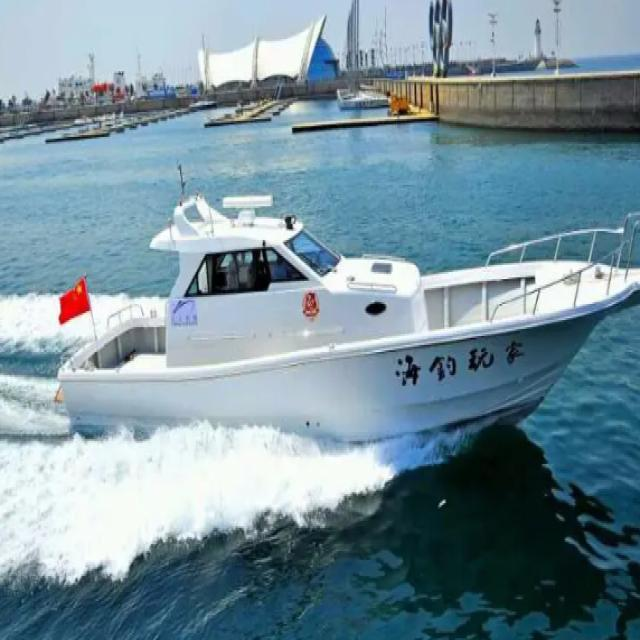houseboat: (46, 174, 640, 441)
